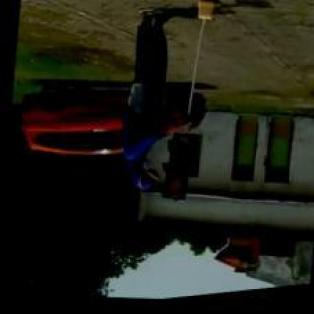Semoforo Rojo: (154, 133, 196, 206)
